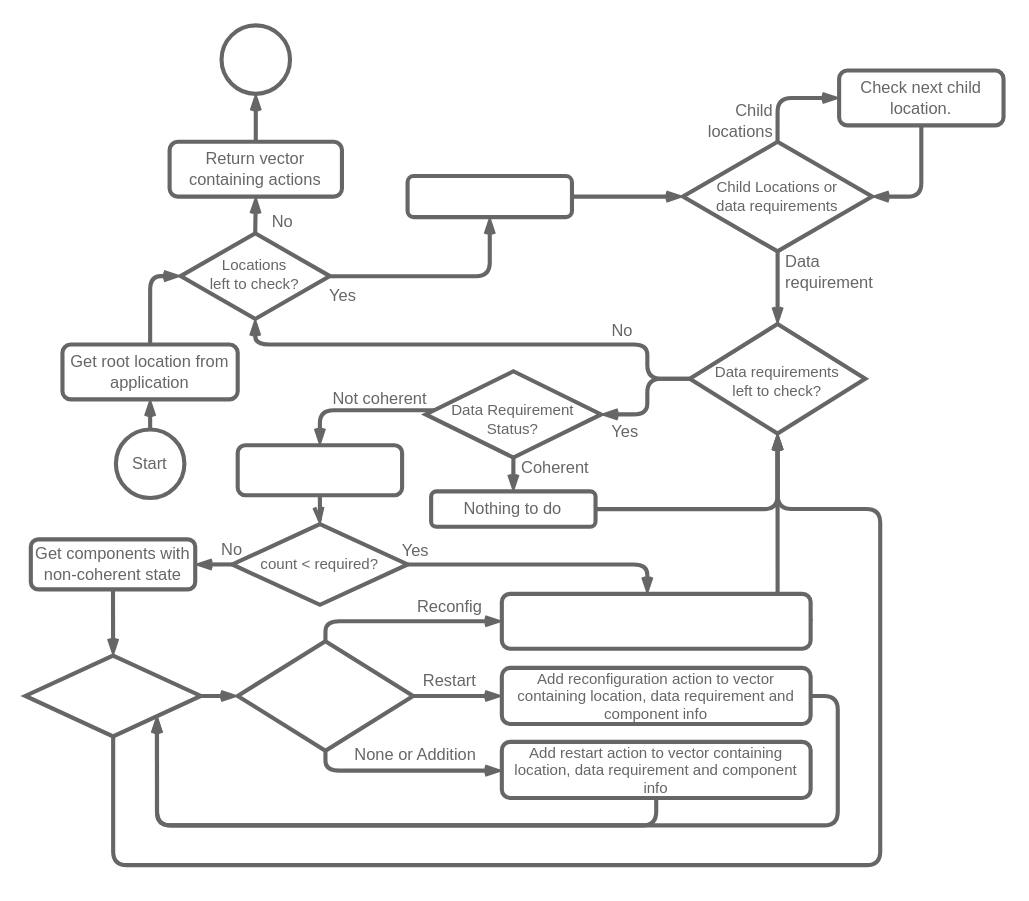
Some shapes in this 1029 by 901 pixel diagram are drawn without their labels. The centre of each missing label's shape, as x and y in pixels:
Add addition action to vector containing location and data requirement info: pixel 655 620
Check next location: pixel 489 196
Components left to check?: pixel 112 695
Count components with coherent state: pixel 319 470
End: pixel 255 59
What was last attemped for component?: pixel 325 695
